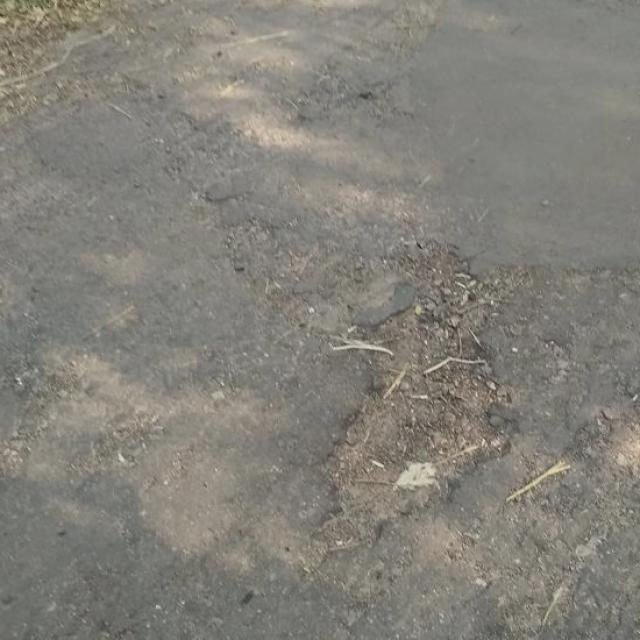road-pothole: (315, 236, 520, 584)
